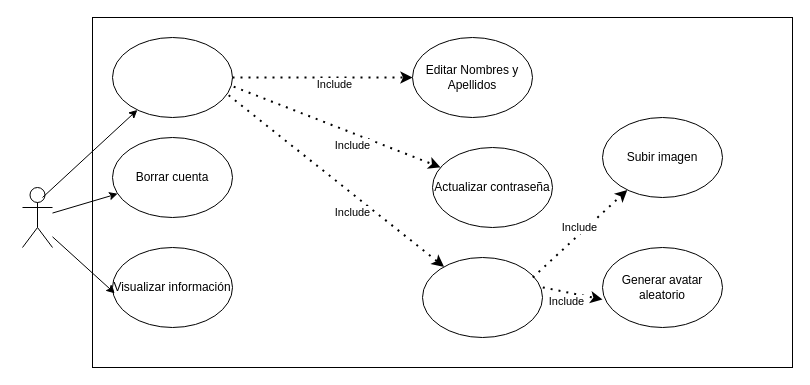
The diagram is 810 pixels wide and 385 high, and some of its shapes have lost their labels. Here are the shapes that lost their labels. From the top down, the centre of each, then its label:
(172,77): Editar Información
(37,217): Usuario
(482,297): Actualizar imagen
